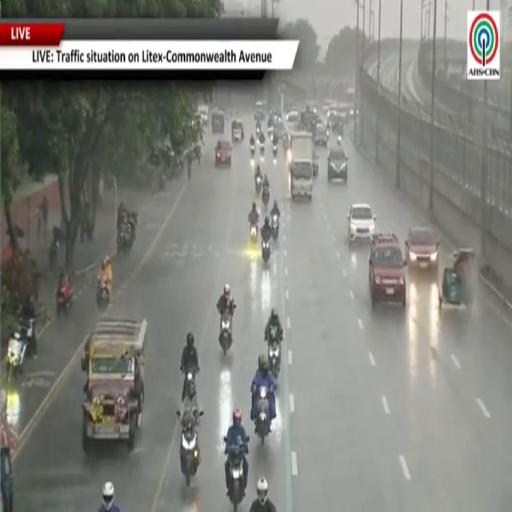car: (369, 234, 406, 307), (405, 227, 439, 269), (348, 203, 376, 244), (328, 148, 348, 183), (215, 140, 232, 166), (315, 123, 328, 147), (273, 121, 285, 139), (198, 105, 209, 124), (286, 110, 299, 122)
jeepney: (82, 318, 146, 452)
motorcycle: (180, 411, 203, 487), (6, 319, 34, 381), (228, 437, 249, 511), (256, 387, 272, 444), (268, 326, 280, 379), (219, 310, 232, 355), (57, 283, 73, 315), (185, 368, 197, 399), (97, 281, 109, 310), (49, 239, 59, 270), (117, 223, 128, 251), (271, 214, 279, 240), (262, 238, 270, 263), (255, 175, 262, 195), (250, 224, 257, 244), (262, 187, 269, 205), (159, 173, 166, 189), (267, 125, 273, 135), (337, 135, 342, 146), (251, 143, 255, 156), (260, 141, 264, 154), (256, 126, 261, 136), (273, 144, 277, 156)
tricycle: (439, 249, 476, 307)
truck: (288, 133, 314, 199)
